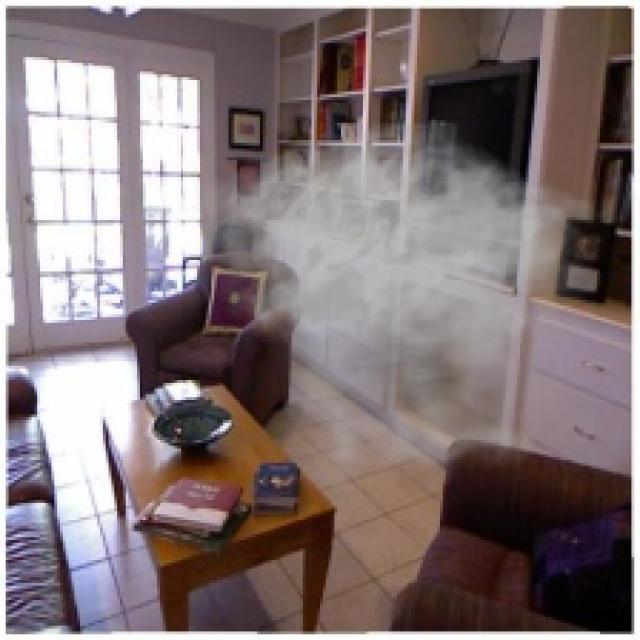Smoke: (194, 120, 612, 503)
